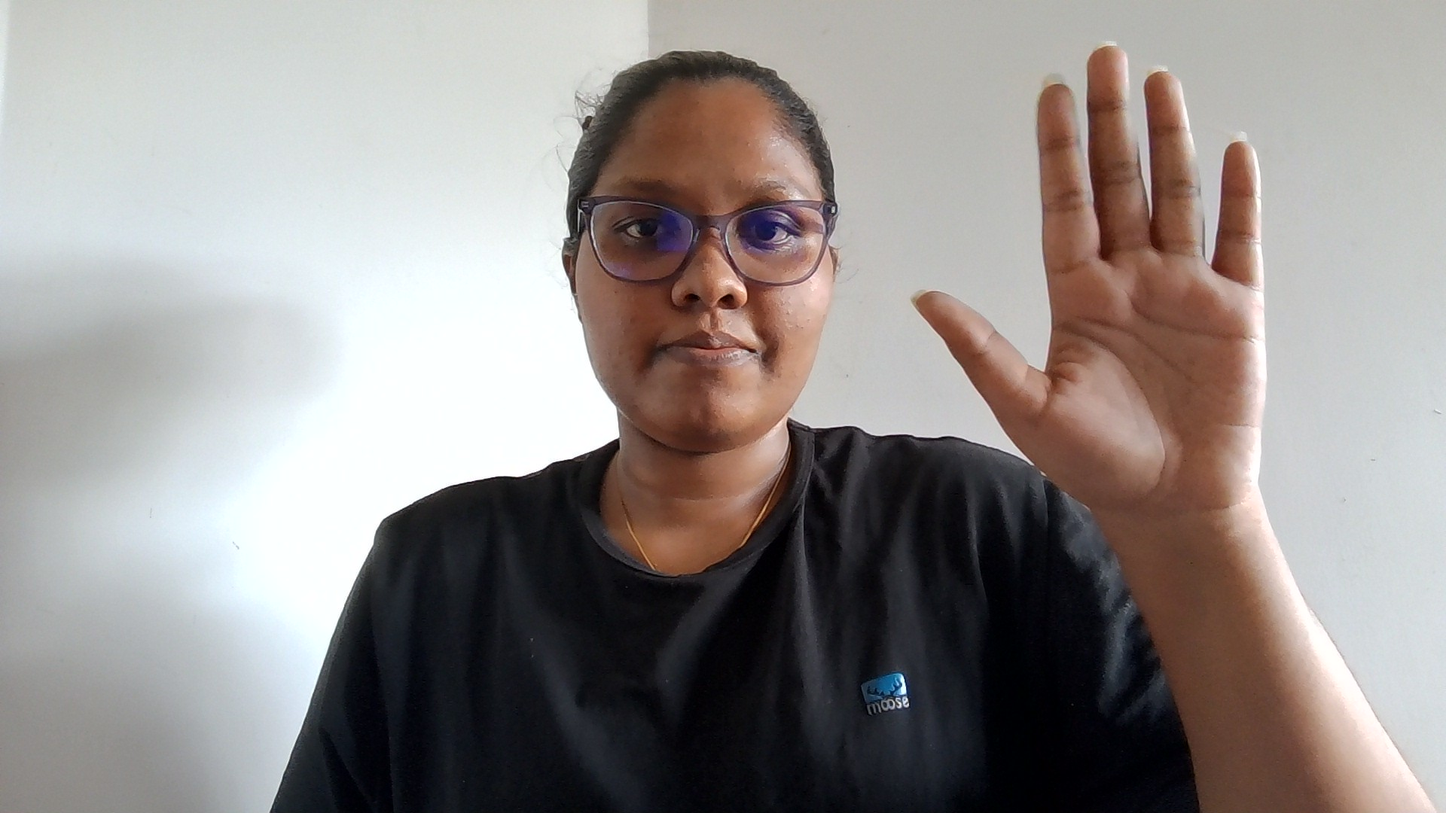Hello: (887, 23, 1381, 590)
